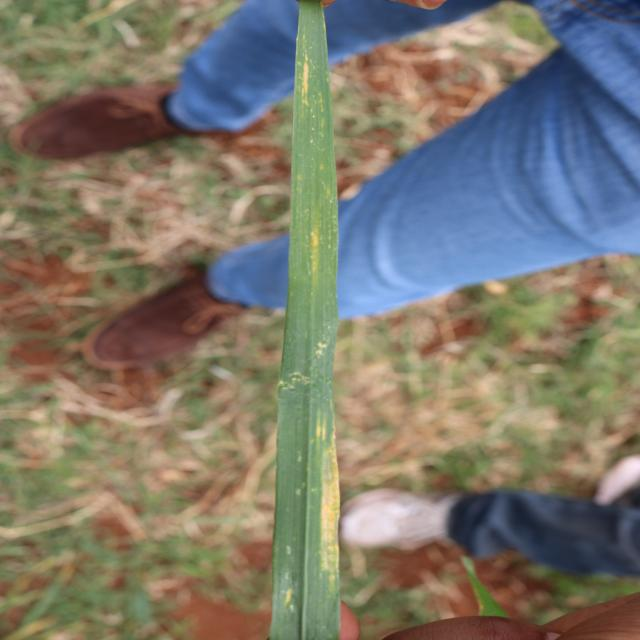Stripe Rust: (308, 423, 344, 589), (298, 53, 314, 104)
